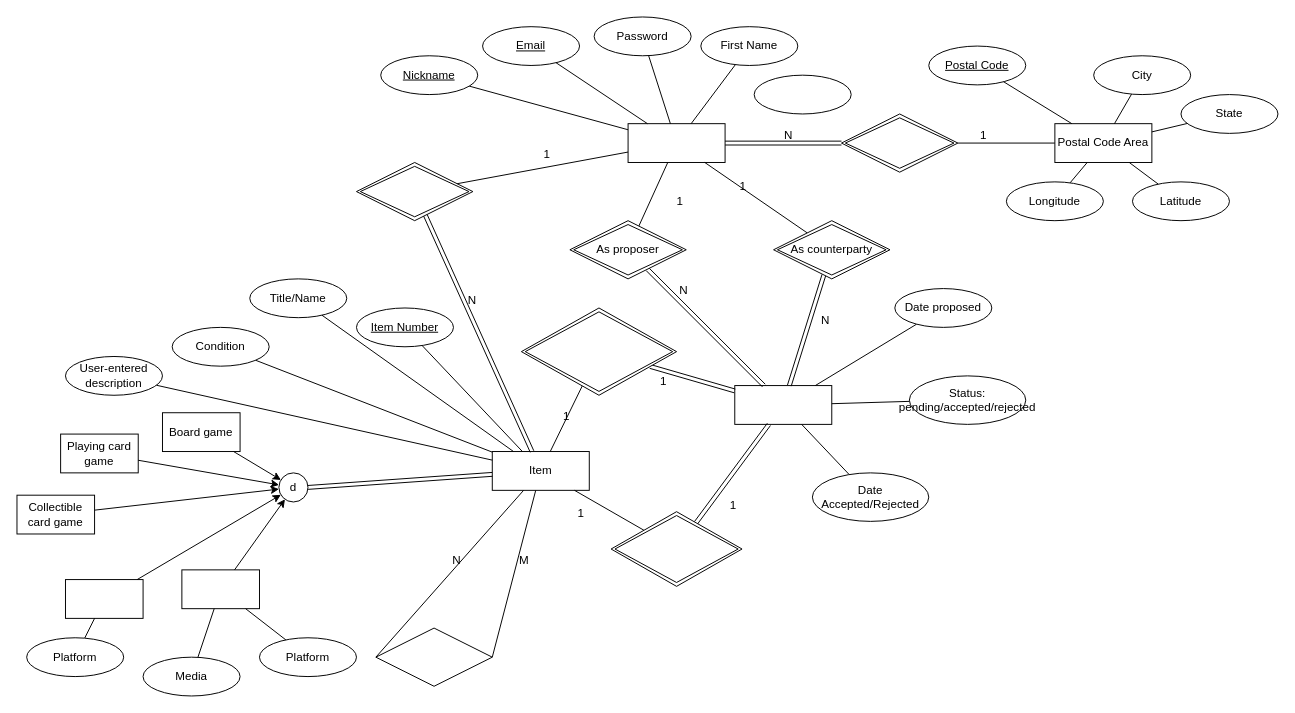
Image size: 1295x713. Some labels were removed from this diagram. Here are the shapes that lost their labels. From the top down, the box of each, then its label:
(753, 74, 851, 114): Last Name
(627, 123, 725, 162): User
(841, 113, 958, 172): Lives In
(356, 162, 473, 221): Lists
(520, 307, 677, 395): is being sought after in the trade
(734, 385, 832, 424): Trade
(610, 511, 742, 586): is being offered in the trade
(65, 579, 143, 618): Computer game
(181, 569, 259, 609): Video game
(375, 627, 492, 686): Cannot Be Proposed For
